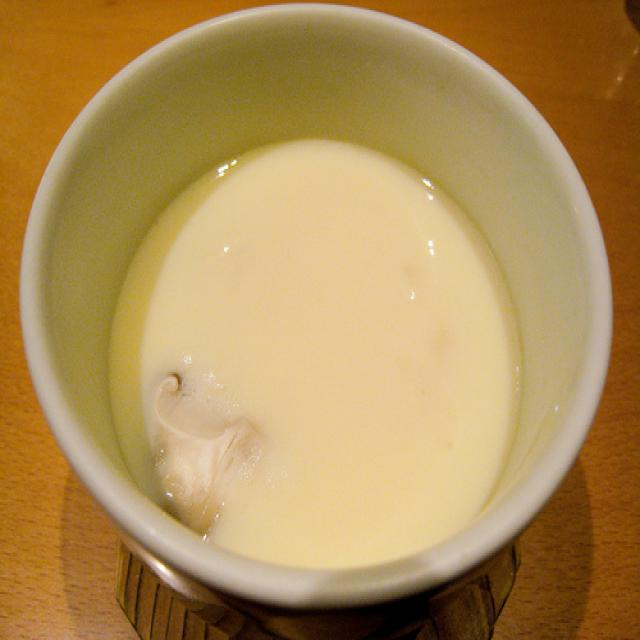鸡蛋料理: (70, 0, 564, 637)
